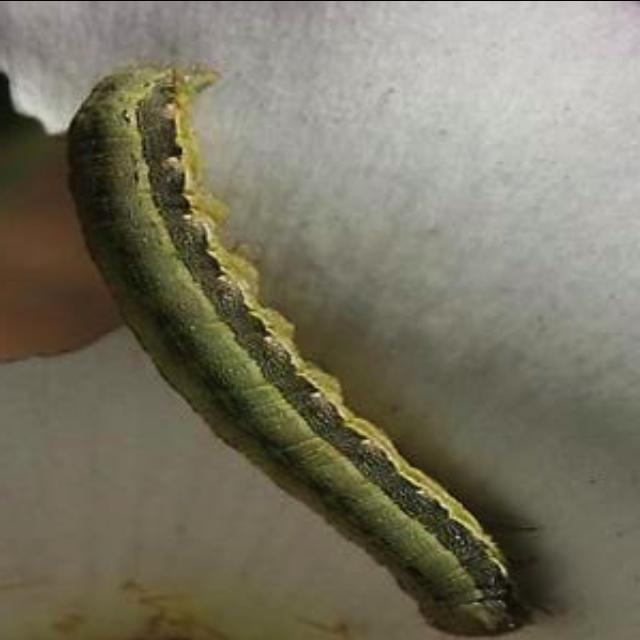Beet armyworm: (40, 41, 548, 640)
